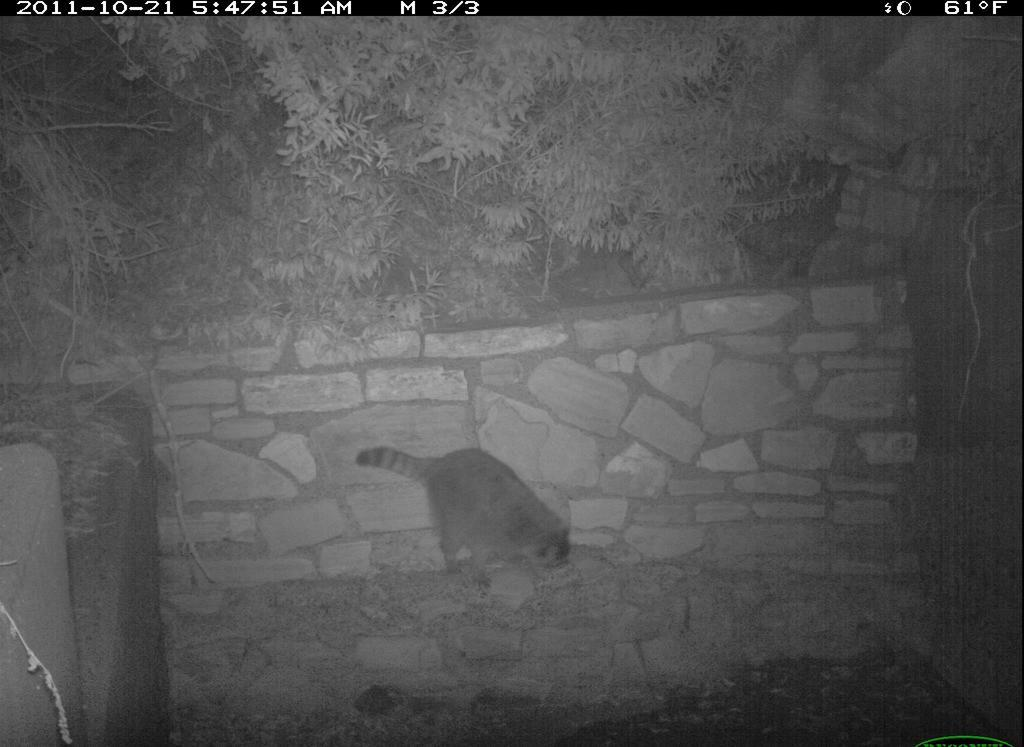raccoon: (349, 431, 601, 596)
